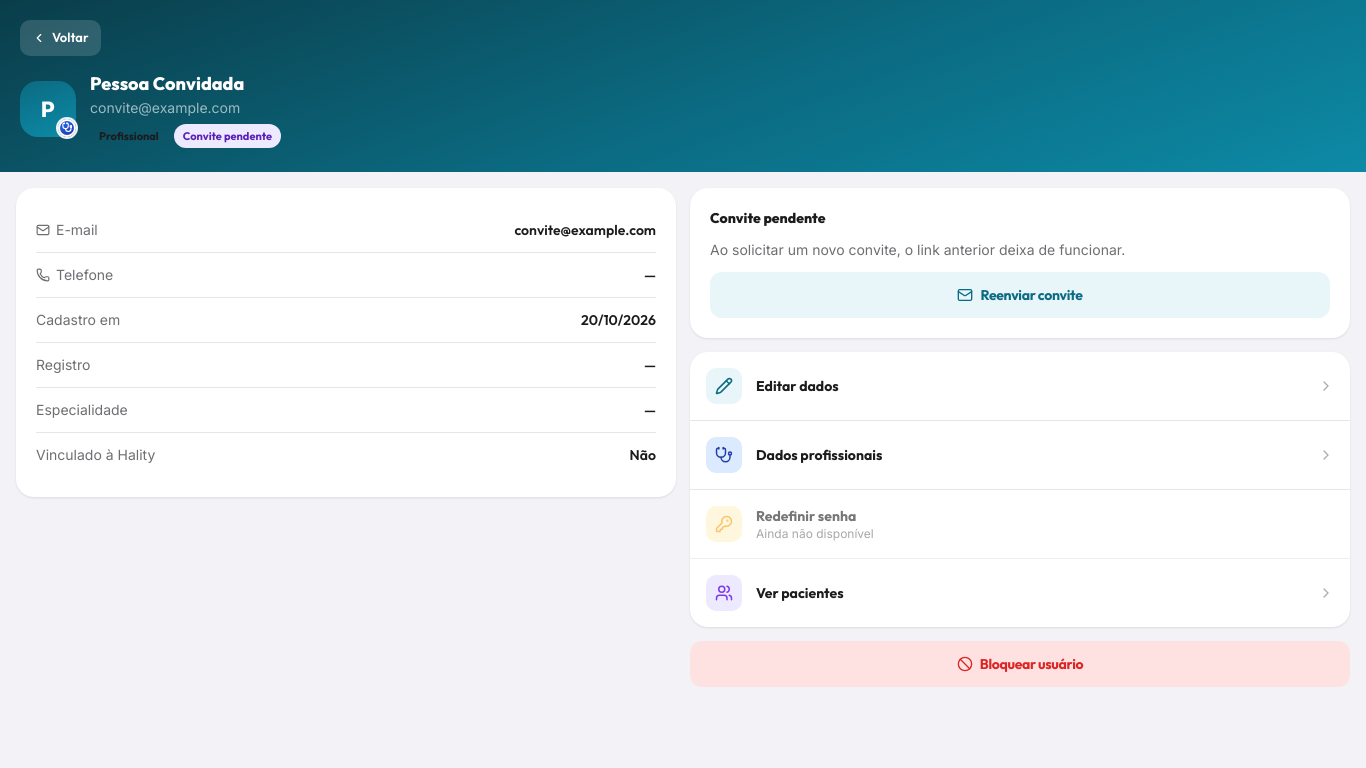
Test: reenvio administrativo de convite › aguarda a API, bloqueia cliques repetidos e atualiza o cache sem apagar a sessão
Expected: the text "Pessoa Convidada" is shown, left=90, top=72, right=244, bottom=94
Click the button "Reenviar convite": {"x": 1020, "y": 295} left=710, top=272, right=1330, bottom=318
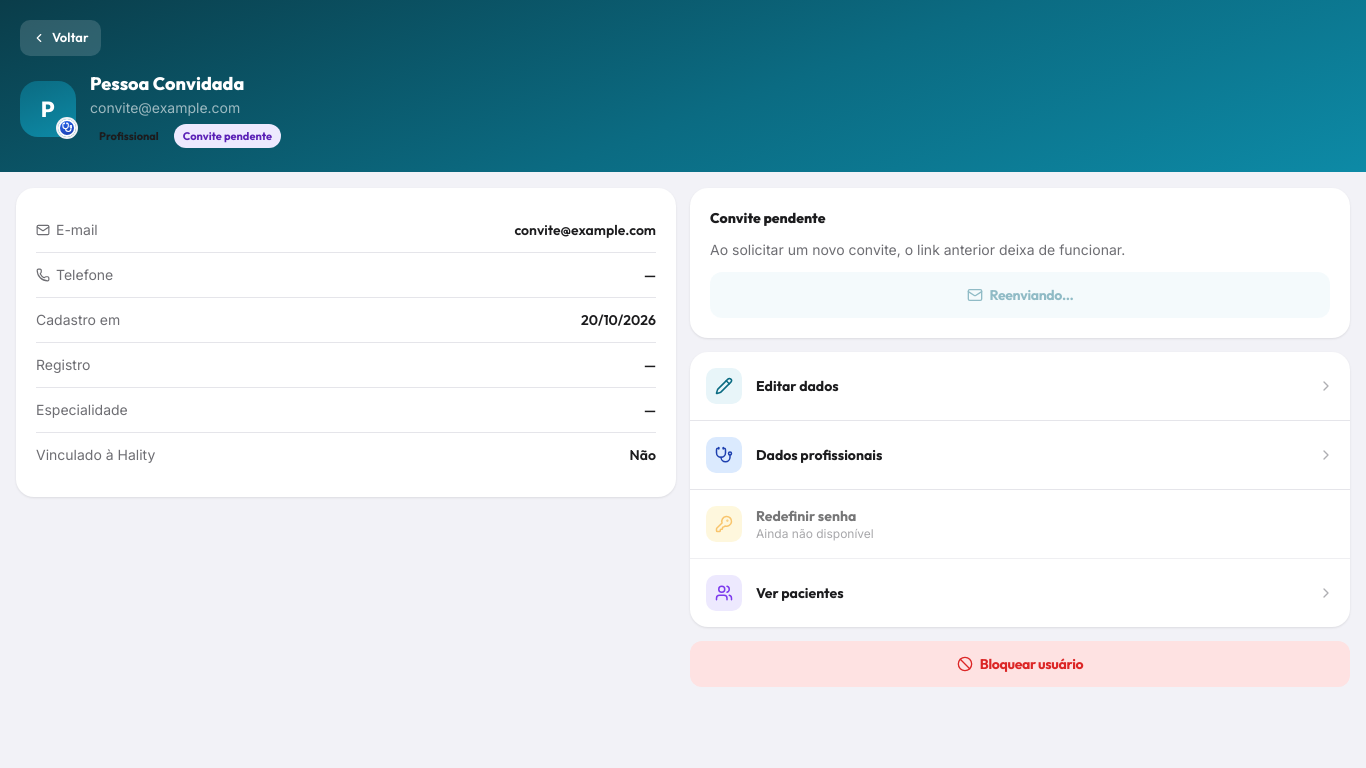
Expected: the text "Um novo convite foi solicitado." is not shown
Now the button "Reenviando…" is disabled
Click the button "Reenviando…": {"x": 1020, "y": 295} left=710, top=272, right=1330, bottom=318
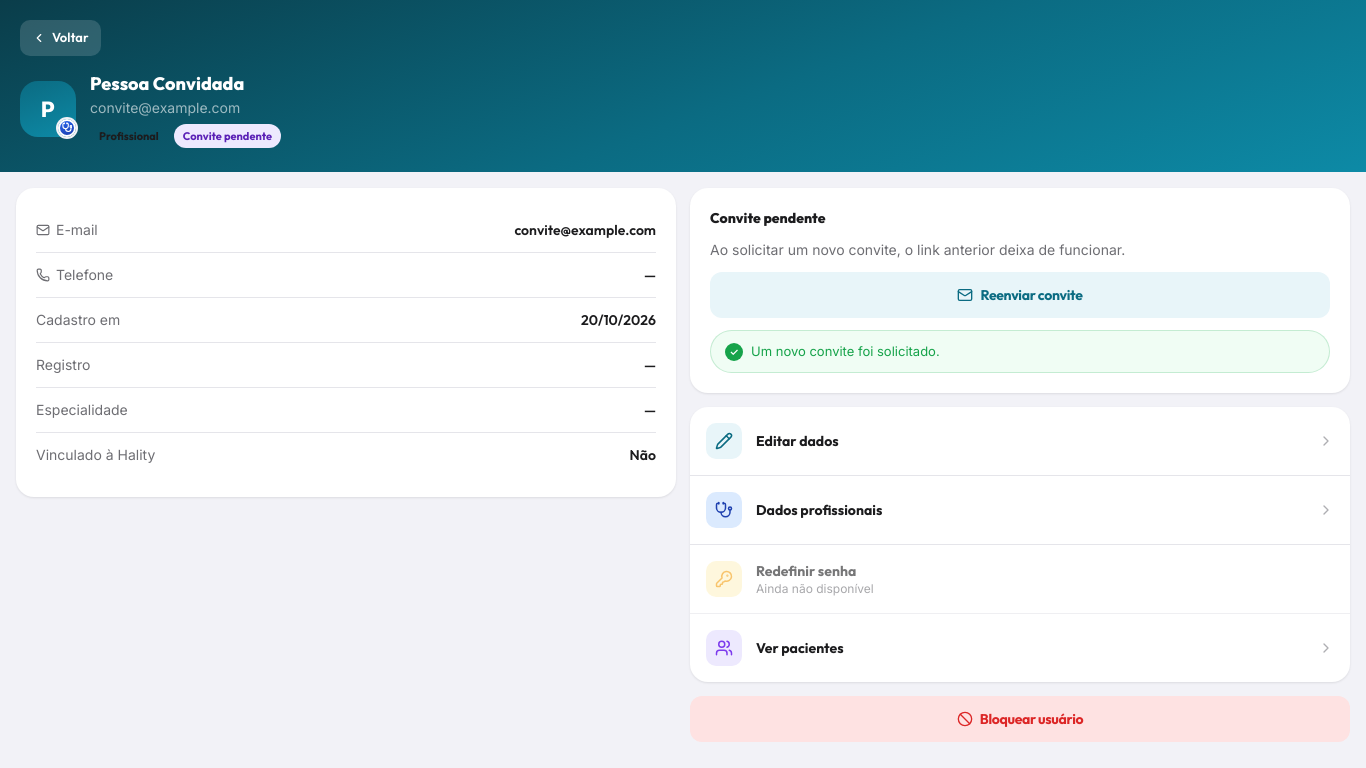
Now the message shows "Um novo convite foi solicitado.", box left=751, top=343, right=940, bottom=359
